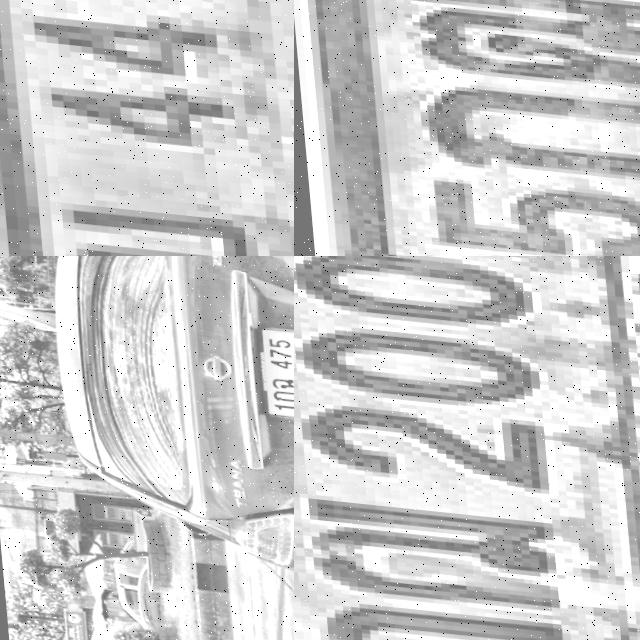license-plate: (294, 256, 640, 640), (294, 0, 640, 256), (0, 0, 294, 256), (236, 306, 294, 419)
